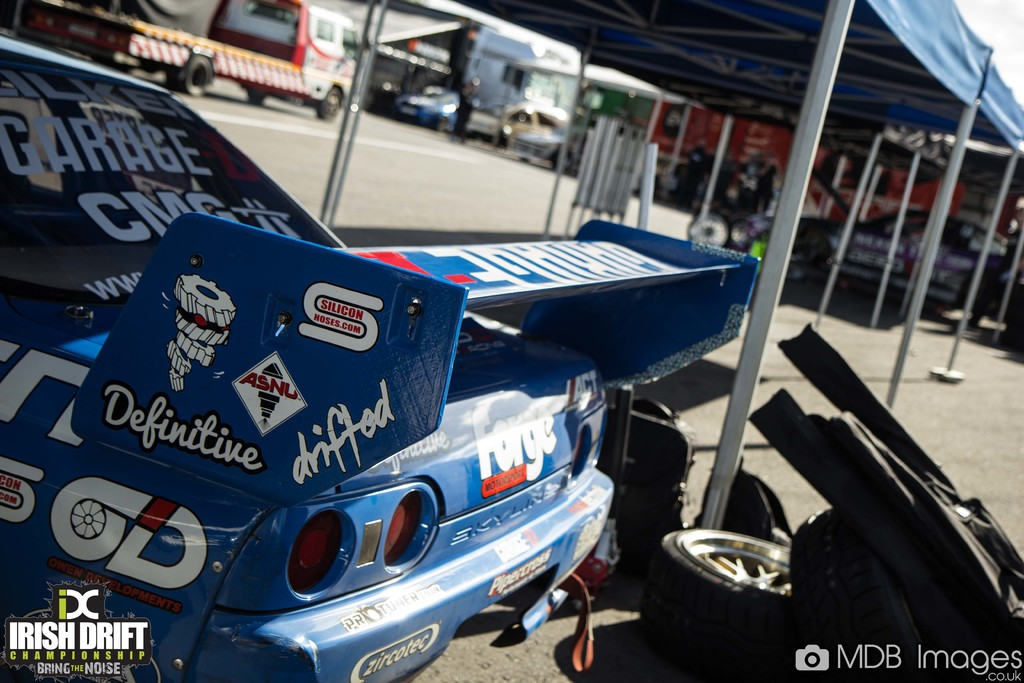cars: (0, 31, 759, 682), (762, 213, 1023, 318)
